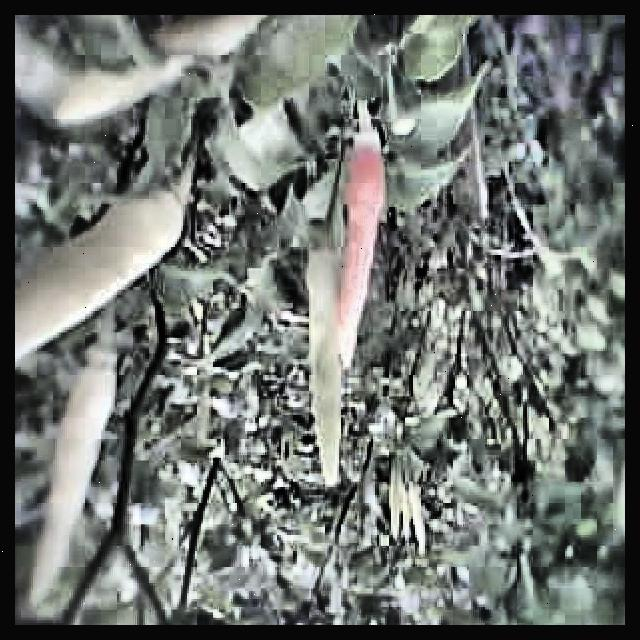Cabai: (339, 121, 425, 350)
